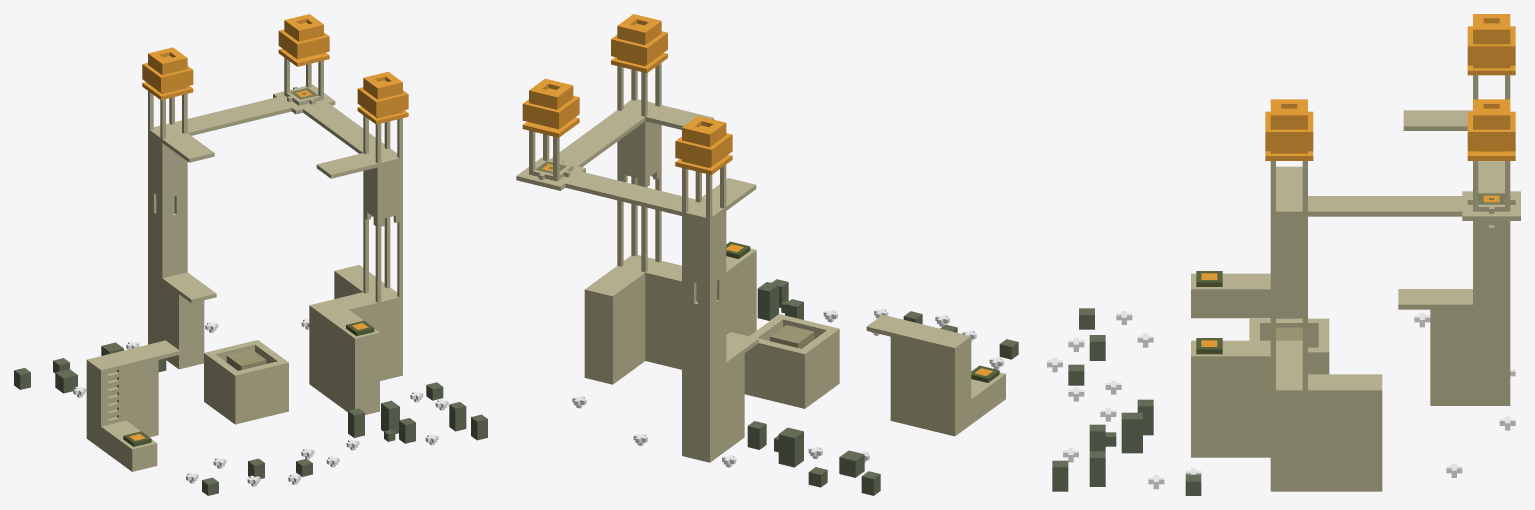
The model's file is monu1.obj.
3 renders of one model, left to right at view 1: azimuth 30°, elevation 25°; view 2: azimuth 150°, elevation 25°; view 3: azimuth 270°, elevation 25°, orthographic. The views are drawn at different scales.
Visible parts, largest first — view 1: monu1; view 2: monu1; view 3: monu1.
Part boxes in pixels (left/top/right/bottom): monu1: left=14, top=14, right=487, bottom=495; monu1: left=516, top=14, right=1018, bottom=495; monu1: left=1047, top=14, right=1520, bottom=495.
Bounding box in the file's own units: 8.6 × 7.8 × 8.9.
